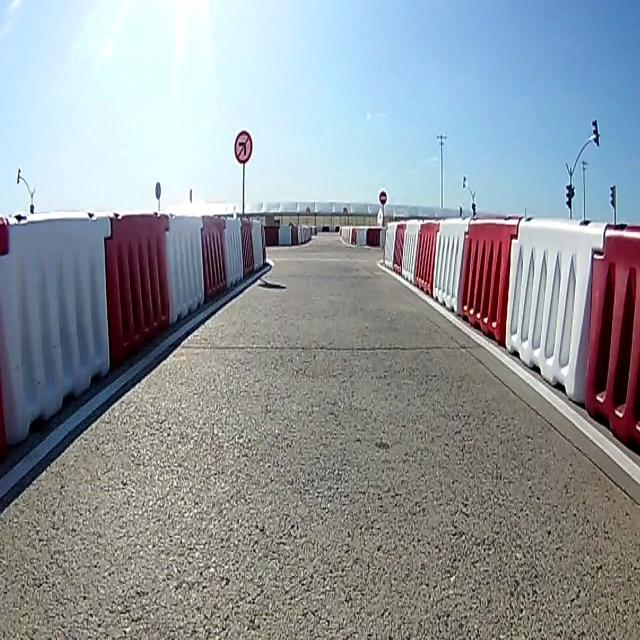girisyok: (379, 188, 386, 205)
soladonulmez: (233, 130, 253, 162)
